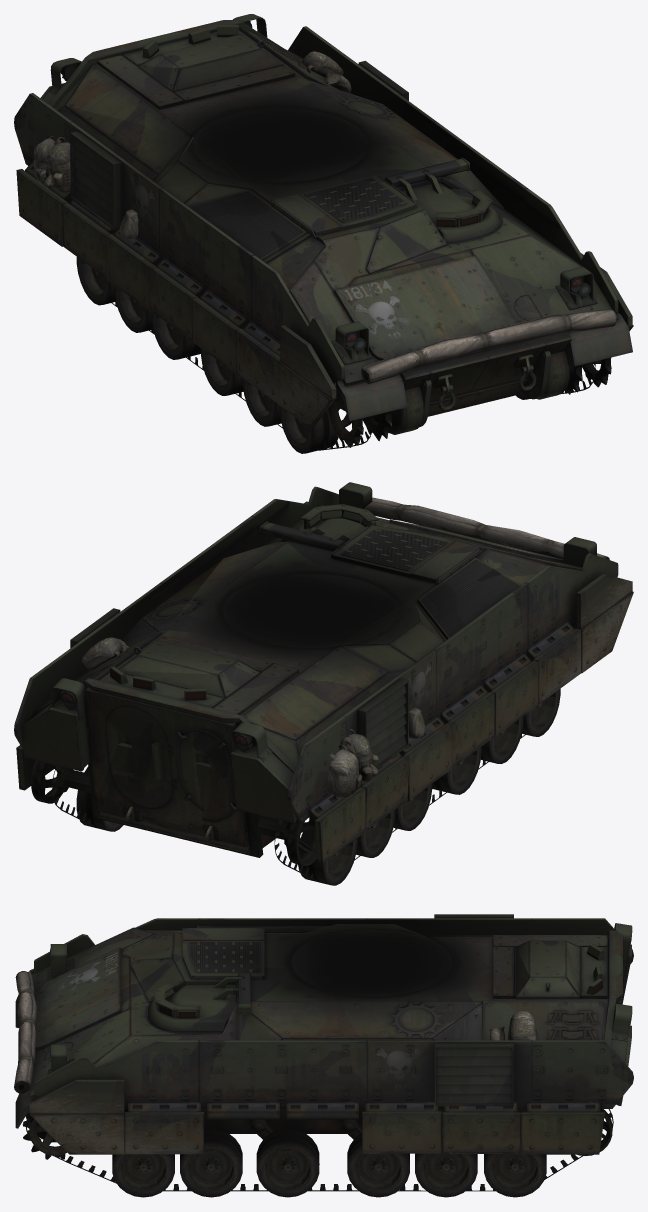
Rendered from ifv.glb.
3 renders of one model, top to bottom at view 1: azimuth 30°, elevation 25°; view 2: azimuth 150°, elevation 25°; view 3: azimuth 270°, elevation 25°, orthographic. The views are drawn at different scales.
Visible parts, largest first — view 1: body_lod0, bagsbagsba; view 2: body_lod0, bagsbagsba; view 3: body_lod0, bagsbagsba, Object04_13 - Default_0.
Boxes of the visible parts, box(x1,y1,x2,y2) form: body_lod0: box(14, 14, 633, 453); bagsbagsba: box(33, 51, 616, 384); body_lod0: box(14, 482, 633, 885); bagsbagsba: box(82, 497, 609, 797); body_lod0: box(15, 914, 633, 1197); bagsbagsba: box(14, 971, 538, 1093); Object04_13 - Default_0: box(25, 1109, 613, 1191).
Size of what is drawn, in the model's own units: 1.33 by 0.8252 by 2.46.
Materials: 4 (4 with a texture image).
